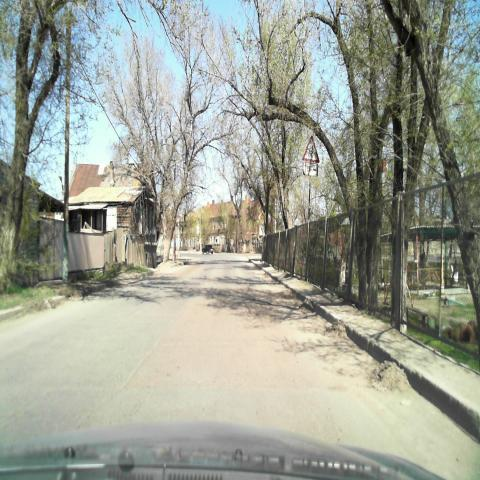8_1_3: (304, 163, 318, 176)
